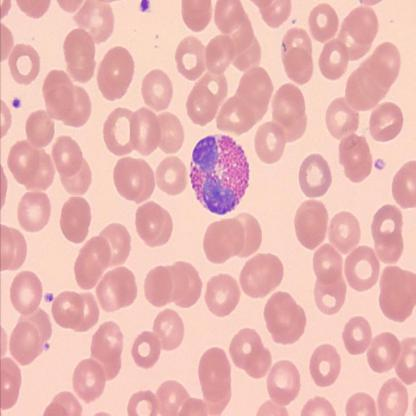Eosinophil: (188, 133, 252, 217)
